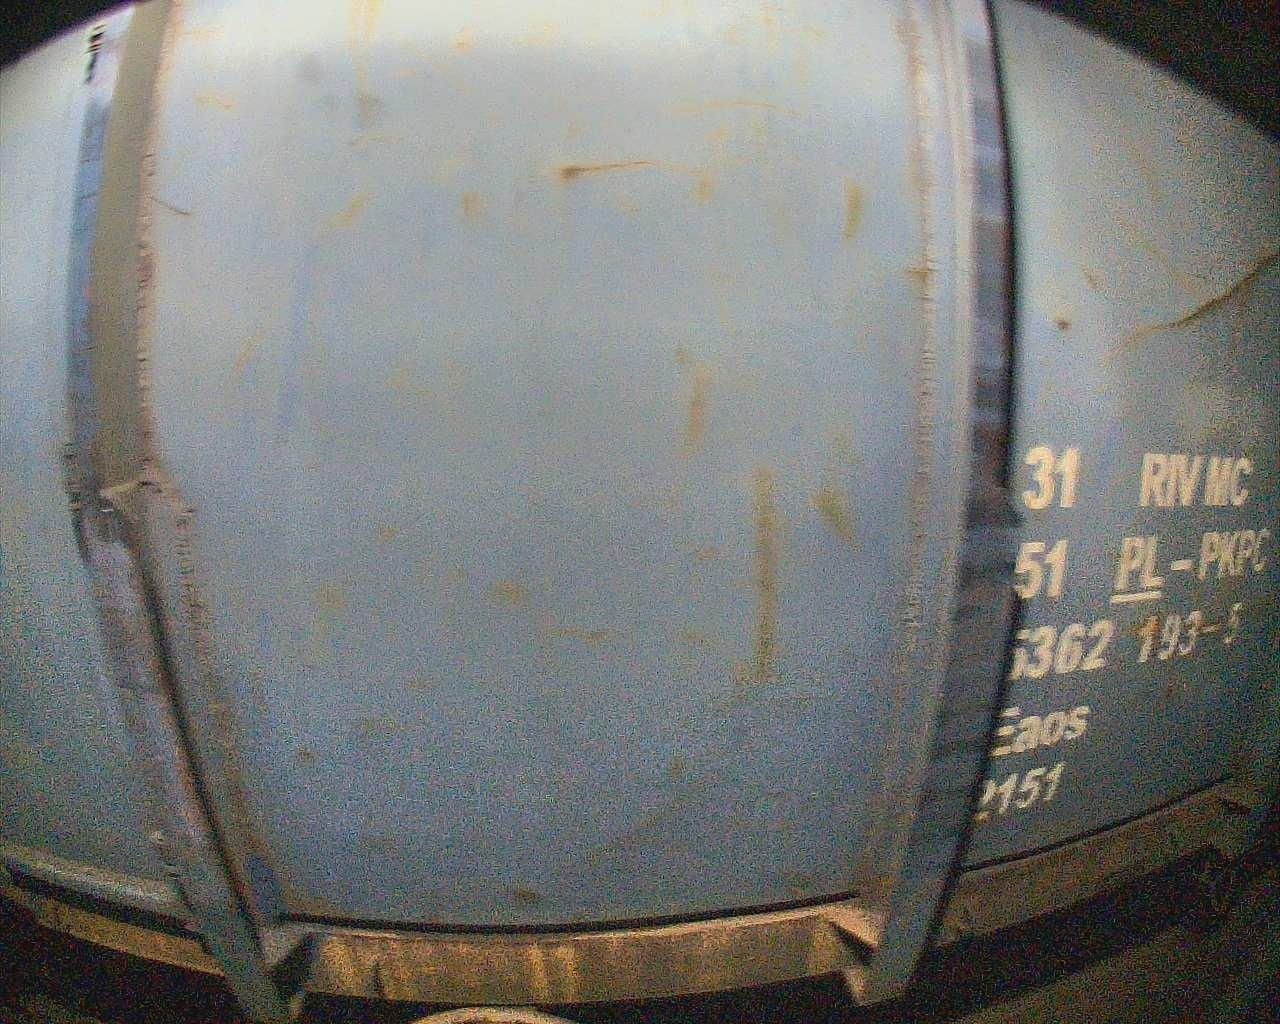UIC: (965, 445, 1272, 824)
